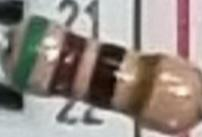Black: (81, 43, 130, 111)
Brown: (8, 14, 52, 90), (45, 31, 88, 94)
Side-Gold: (124, 53, 165, 124)
